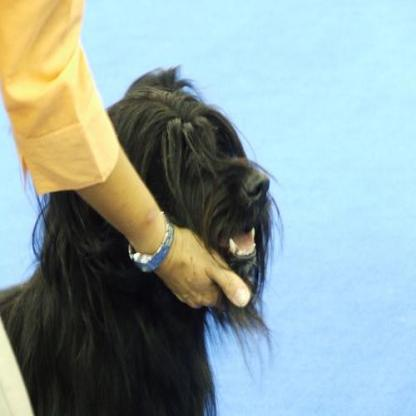briard: (0, 62, 287, 414)
